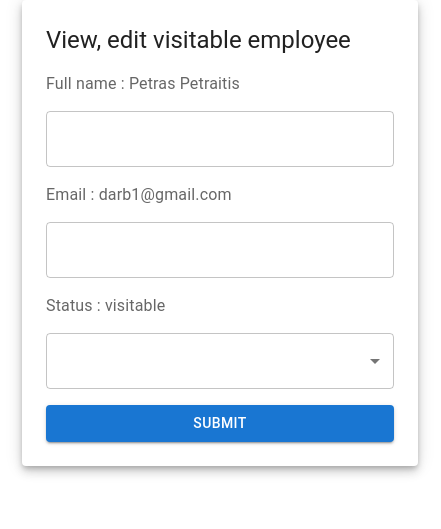
EditVisitee › Email field › Should display email error when wrong email entered
Type "Tomas Tomukas" into the field with test id "email_field" at [220, 250], box [46,222,394,278]
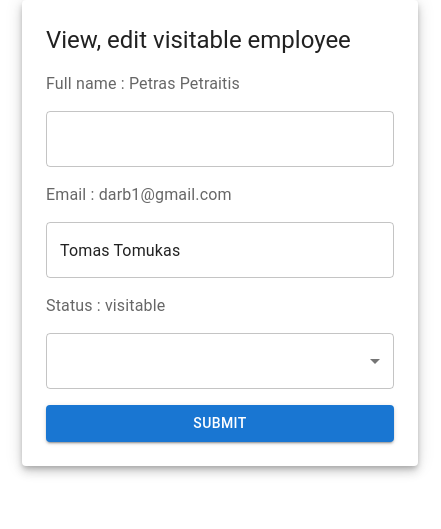
Click the button with test id "submit_button" at [220, 423], box [46,405,394,442]
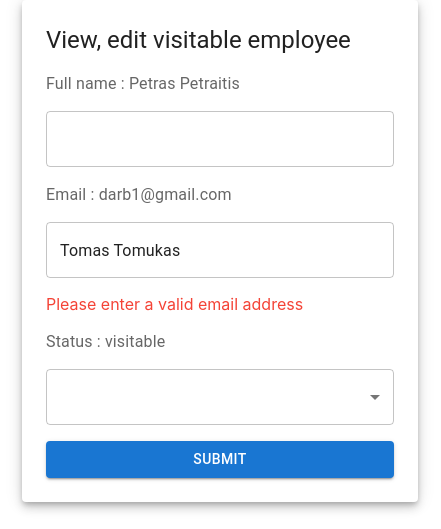
Expected: the text "Please enter a valid email address" is shown, [46,294,303,314]
